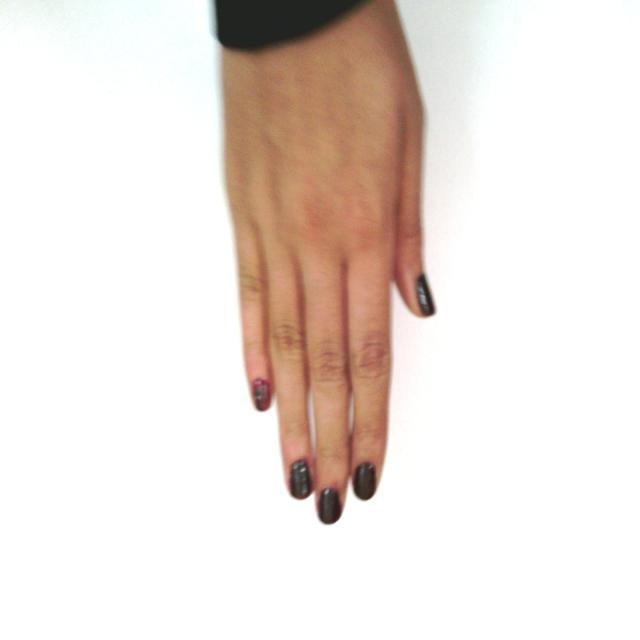Fingernail: (353, 464, 376, 500), (291, 461, 311, 500), (320, 488, 340, 525), (417, 275, 435, 316), (252, 379, 271, 413)
